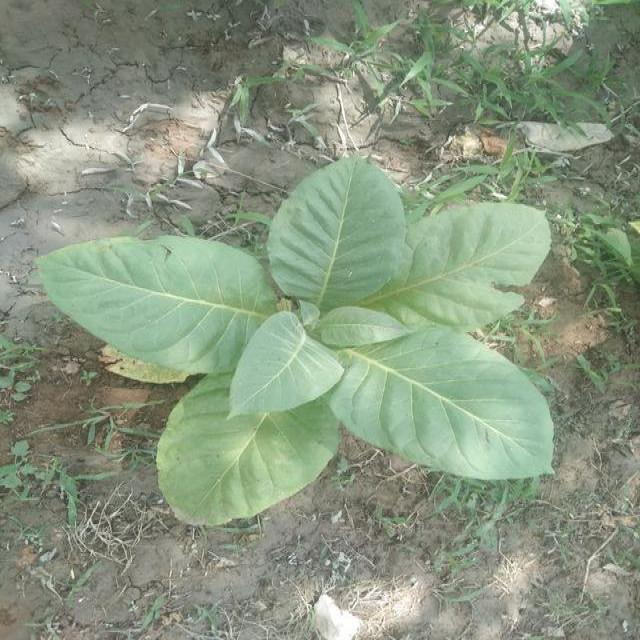crop: (32, 148, 548, 517)
